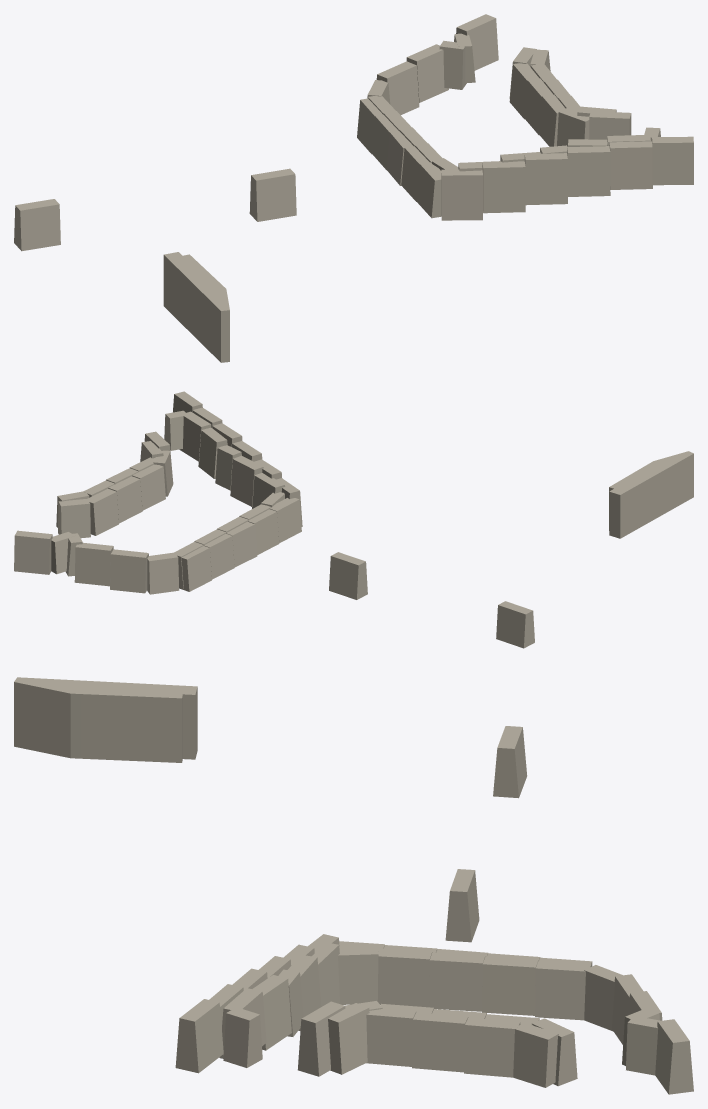
File: bormla_63_27_far.glb
The picture shows the model from 3 angles, top to bottom: view 1: azimuth 30°, elevation 25°; view 2: azimuth 150°, elevation 25°; view 3: azimuth 270°, elevation 25°; orthographic projection. The views are drawn at different scales.
Parts seen in each view (by area): view 1: geometry_0; view 2: geometry_0; view 3: geometry_0.
Boxes of the visible parts, x1,y1,x2,y2 form: geometry_0: (14,14,693,362); geometry_0: (14,391,693,648); geometry_0: (14,677,693,1094).
Size of the model in its own units: 181 by 28.34 by 155.
